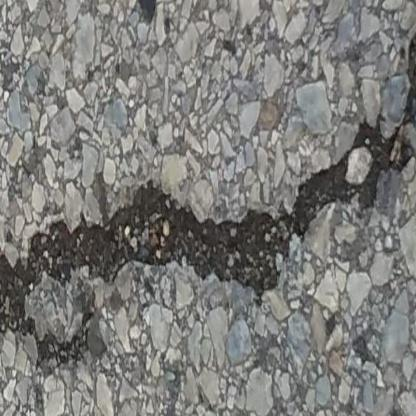Cracks: (0, 2, 416, 381)
